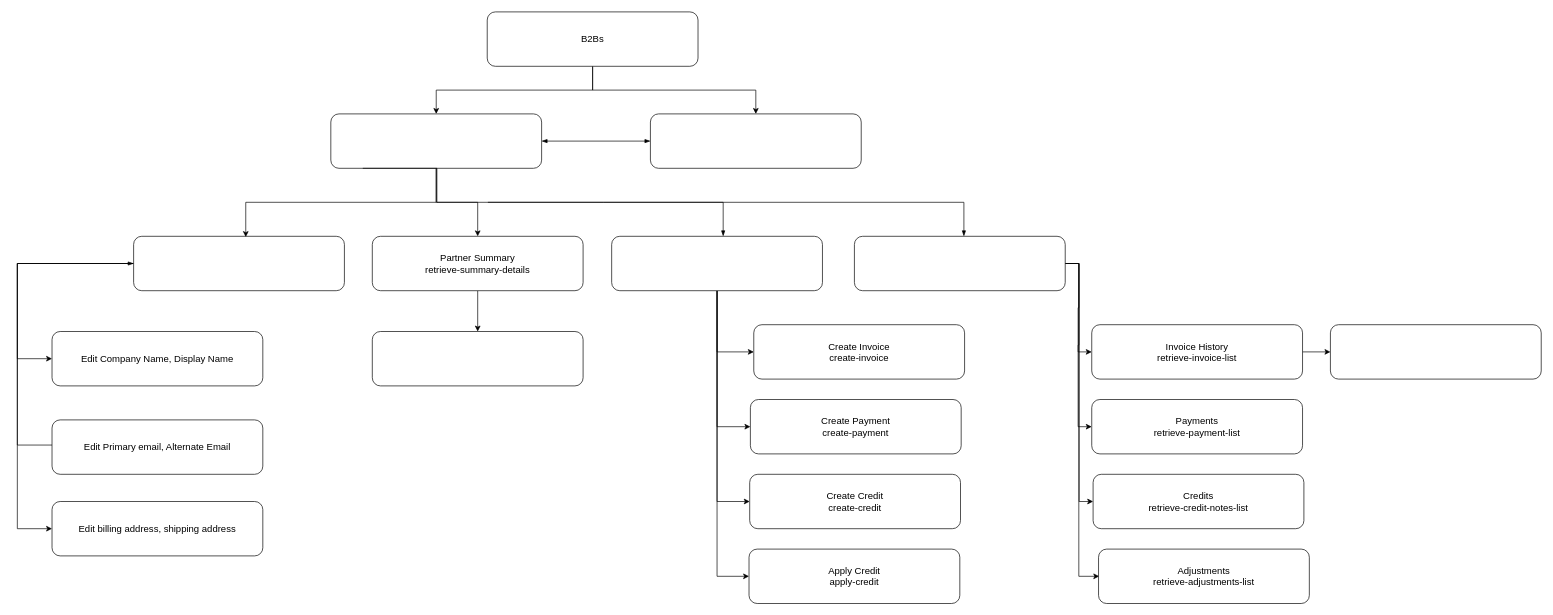
This 1553x615 diagram has some shape labels left out. The shapes that lost their labels are listed below. From the top down, each one's centre as x and y in pixels, then its label:
At (x=436, y=140): "Select Partner get-partner-type, get-partner-list".
At (x=755, y=140): "Add Partner add-partner".
At (x=238, y=263): "Partner Details retrieve-partner-details".
At (x=716, y=263): "Workflow".
At (x=959, y=263): "Transactions Table".
At (x=477, y=358): "Open balance, Over due balance, credit balance".
At (x=1435, y=351): "View Invoice view-invoice".
